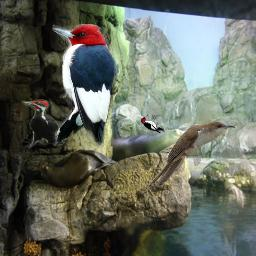Cuckoo: (148, 121, 235, 187)
Woodpecker: (52, 20, 119, 150), (21, 97, 64, 148), (138, 114, 165, 134)
